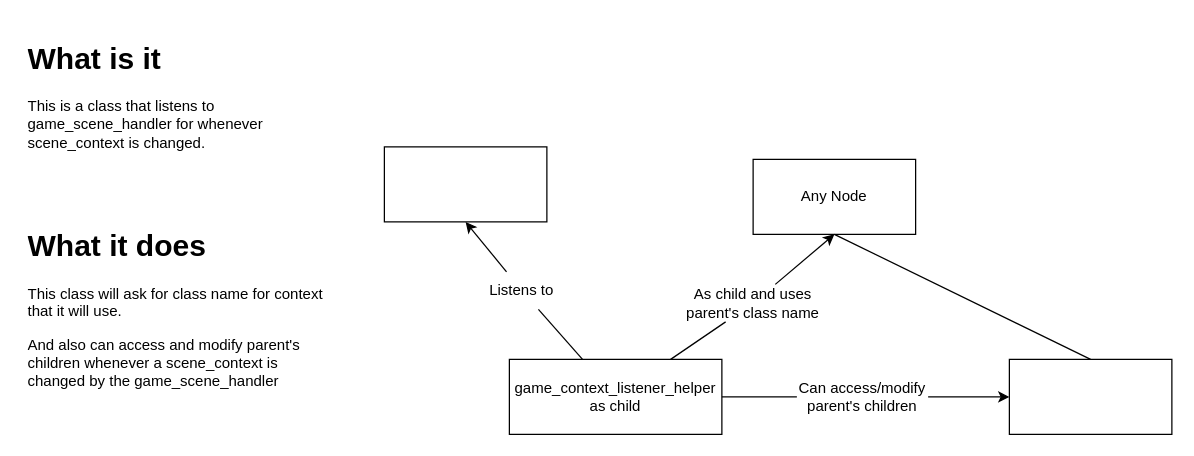
The diagram is 1194 pixels wide and 456 high, and some of its shapes have lost their labels. Here are the shapes that lost their labels. From the top down, the centre of each, then its label:
At point (465, 184): "game_scene_handler".
At point (1090, 396): "Any Child".
